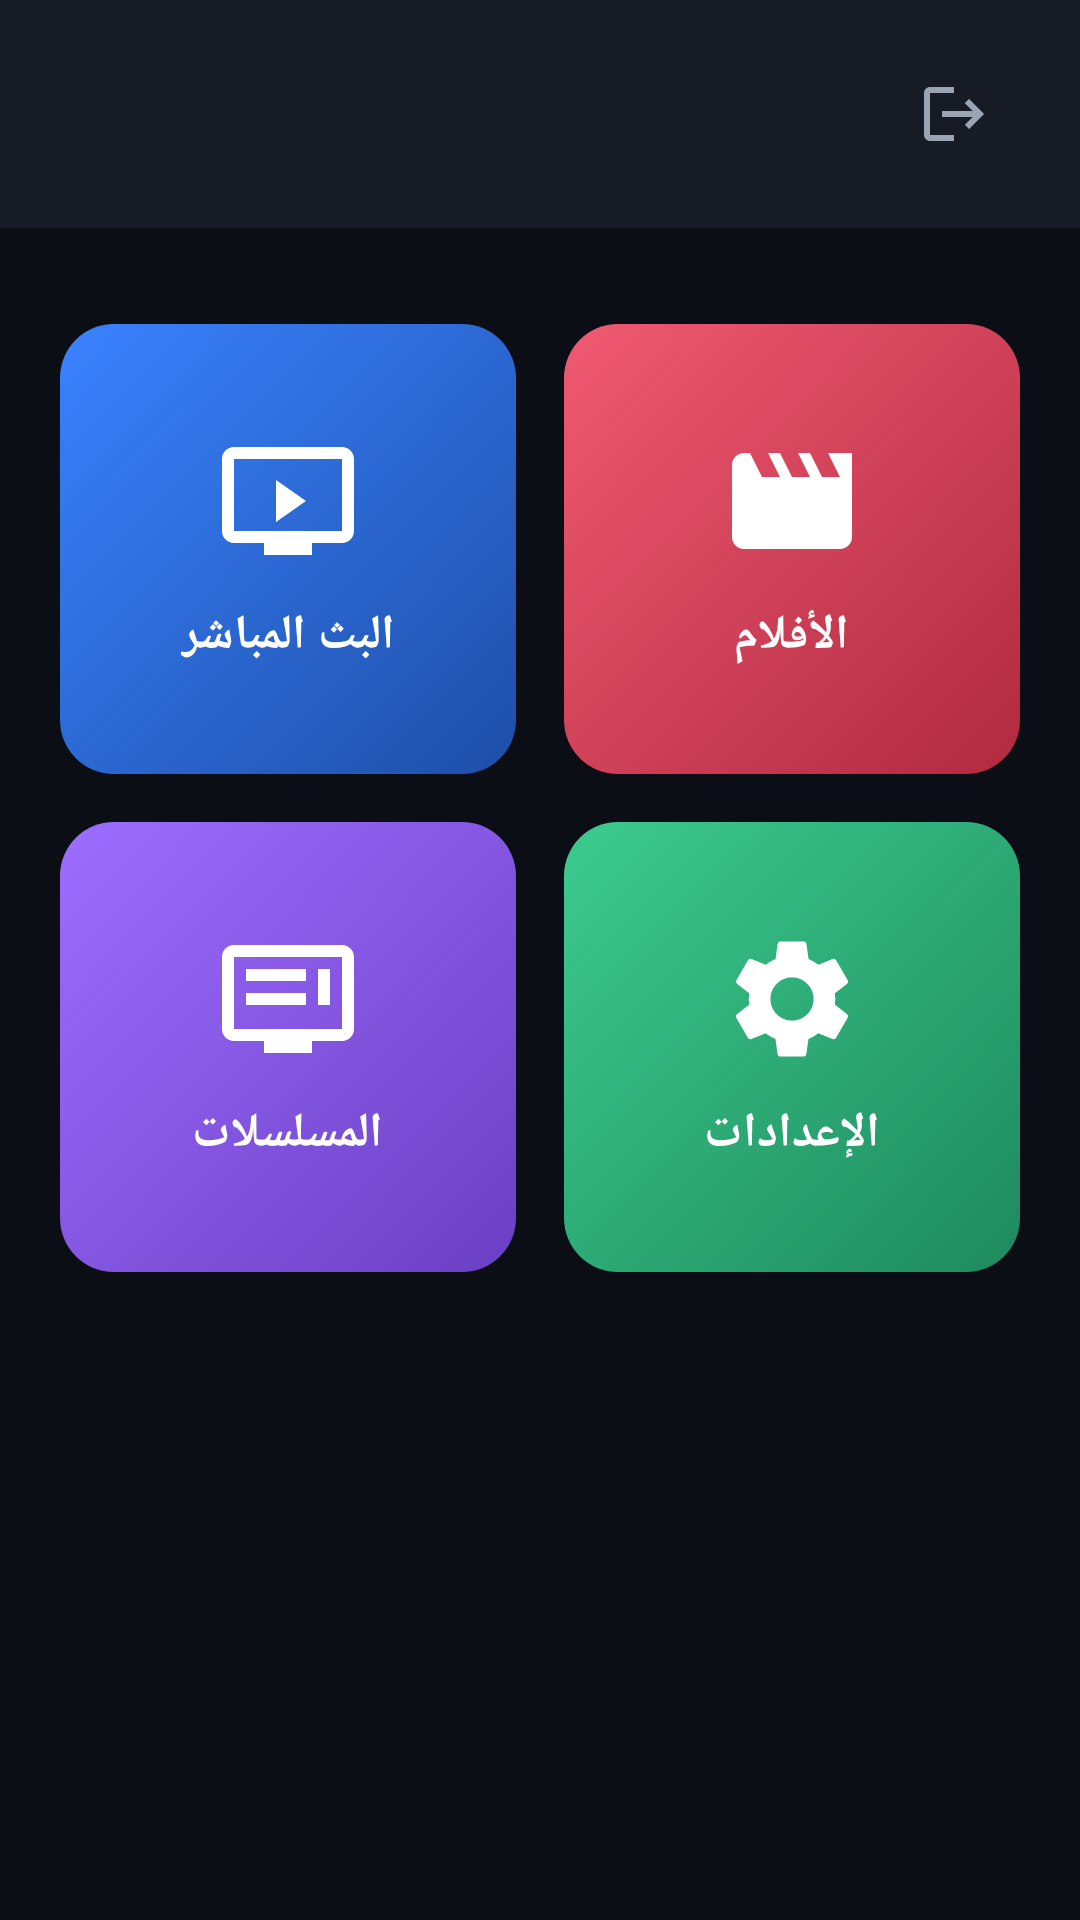

Where icons sit on this 1080px x 1920px app screen, as box=[x1, y1, x2, y2]:
live: box=[222, 447, 354, 555]
movies: box=[732, 453, 852, 549]
series: box=[222, 945, 354, 1053]
settings: box=[736, 941, 848, 1057]
